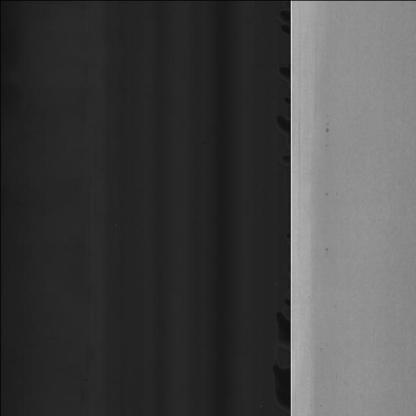inclusion: (323, 113, 330, 142), (321, 181, 330, 201), (321, 239, 330, 257)
